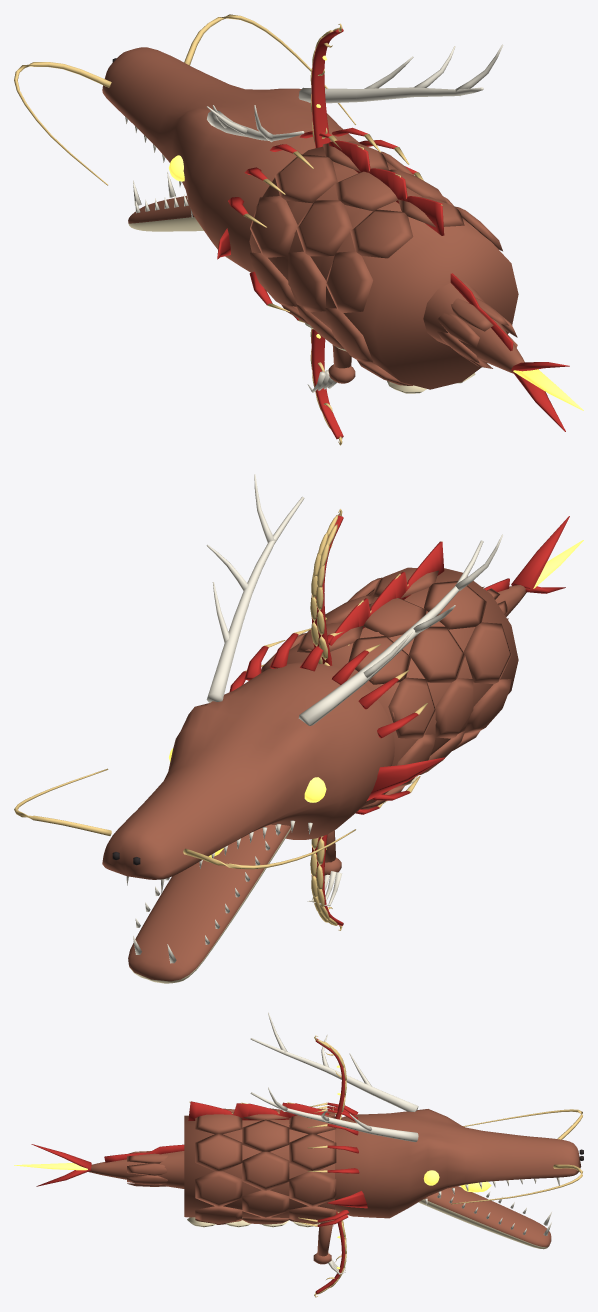
File: dragonbow.glb
The picture shows the model from 3 angles, top to bottom: view 1: azimuth 30°, elevation 25°; view 2: azimuth 150°, elevation 25°; view 3: azimuth 270°, elevation 25°; orthographic projection. The views are drawn at different scales.
Visible parts, largest first — view 1: dragon_segment, dragon_head, dragon_tail, dragon_bow, dragon_claw; view 2: dragon_head, dragon_segment, dragon_bow, dragon_tail, dragon_claw; view 3: dragon_head, dragon_segment, dragon_tail, dragon_bow, dragon_claw.
Part boxes in pixels (box(x1,y1,x2,y2)): dragon_segment: box(249, 140, 518, 393); dragon_head: box(14, 14, 503, 322); dragon_tail: box(423, 273, 583, 431); dragon_bow: box(310, 23, 343, 445); dragon_claw: box(307, 345, 355, 392); dragon_head: box(14, 474, 502, 983); dragon_segment: box(261, 541, 518, 809); dragon_bow: box(310, 509, 349, 930); dragon_tail: box(482, 516, 583, 619); dragon_claw: box(307, 830, 342, 906); dragon_head: box(250, 1012, 583, 1249); dragon_segment: box(184, 1101, 336, 1227); dragon_tail: box(14, 1144, 184, 1188); dragon_bow: box(314, 1035, 346, 1297); dragon_claw: box(313, 1224, 345, 1274).
Bounding box in the file's own units: 0.766 × 1.17 × 2.31.
